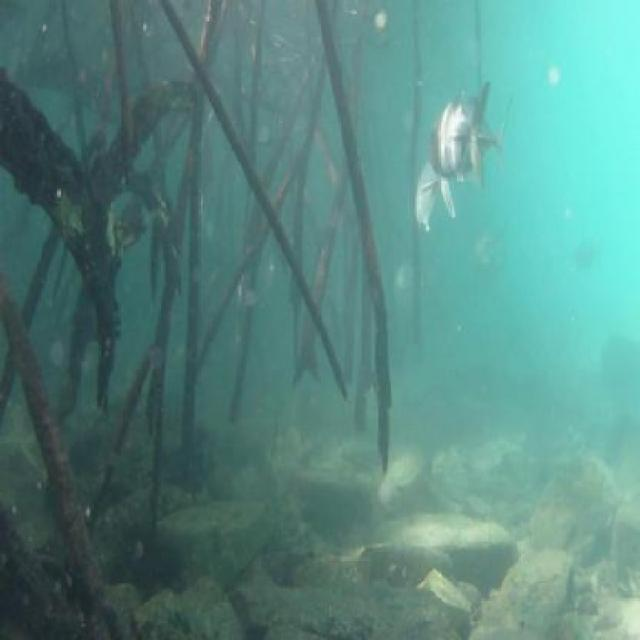Caranx_sexfasciatus_juvenile: (422, 72, 500, 202), (413, 140, 476, 243), (472, 222, 506, 270)
